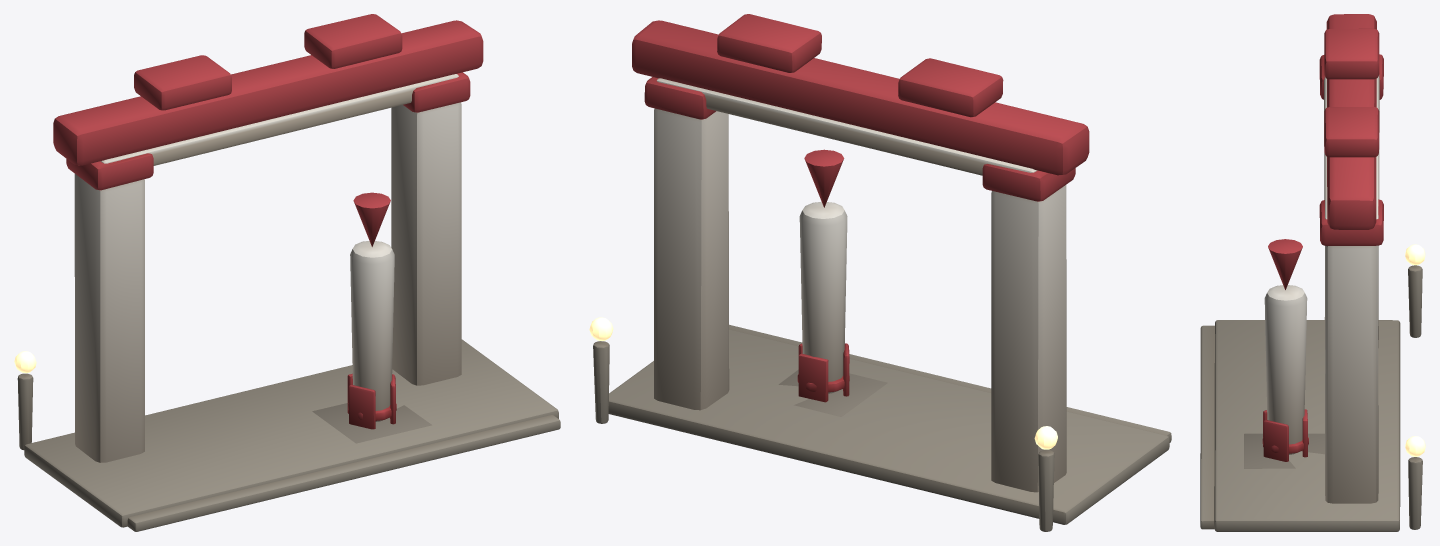
3 views of the same model, side by side, from view 1: azimuth 30°, elevation 25°; view 2: azimuth 150°, elevation 25°; view 3: azimuth 270°, elevation 25° (orthographic). The views are drawn at different scales.
Parts seen in each view (by area): view 1: gate_fec8fc51; view 2: gate_fec8fc51; view 3: gate_fec8fc51.
Part boxes in pixels (x1,y1,x2,y2): gate_fec8fc51: (14, 14, 560, 531); gate_fec8fc51: (589, 14, 1171, 531); gate_fec8fc51: (1200, 14, 1425, 531).
Bounding box in the file's own units: 5.39 × 4.41 × 2.55.
